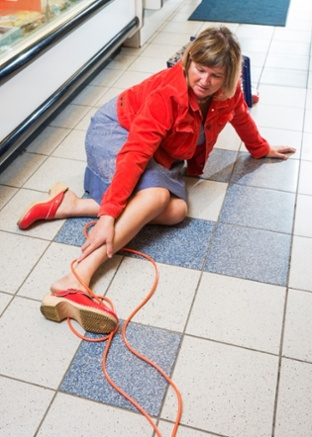collapsed: (3, 8, 311, 366)
